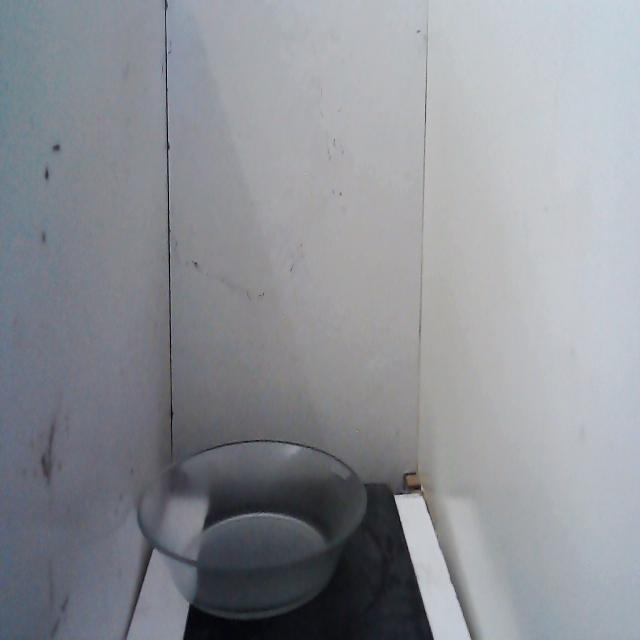vidro: (128, 427, 378, 633)
